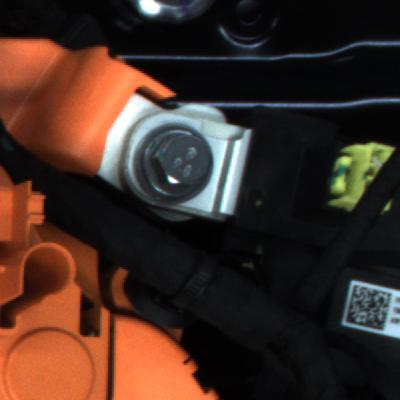nut_b: (130, 120, 227, 211)
